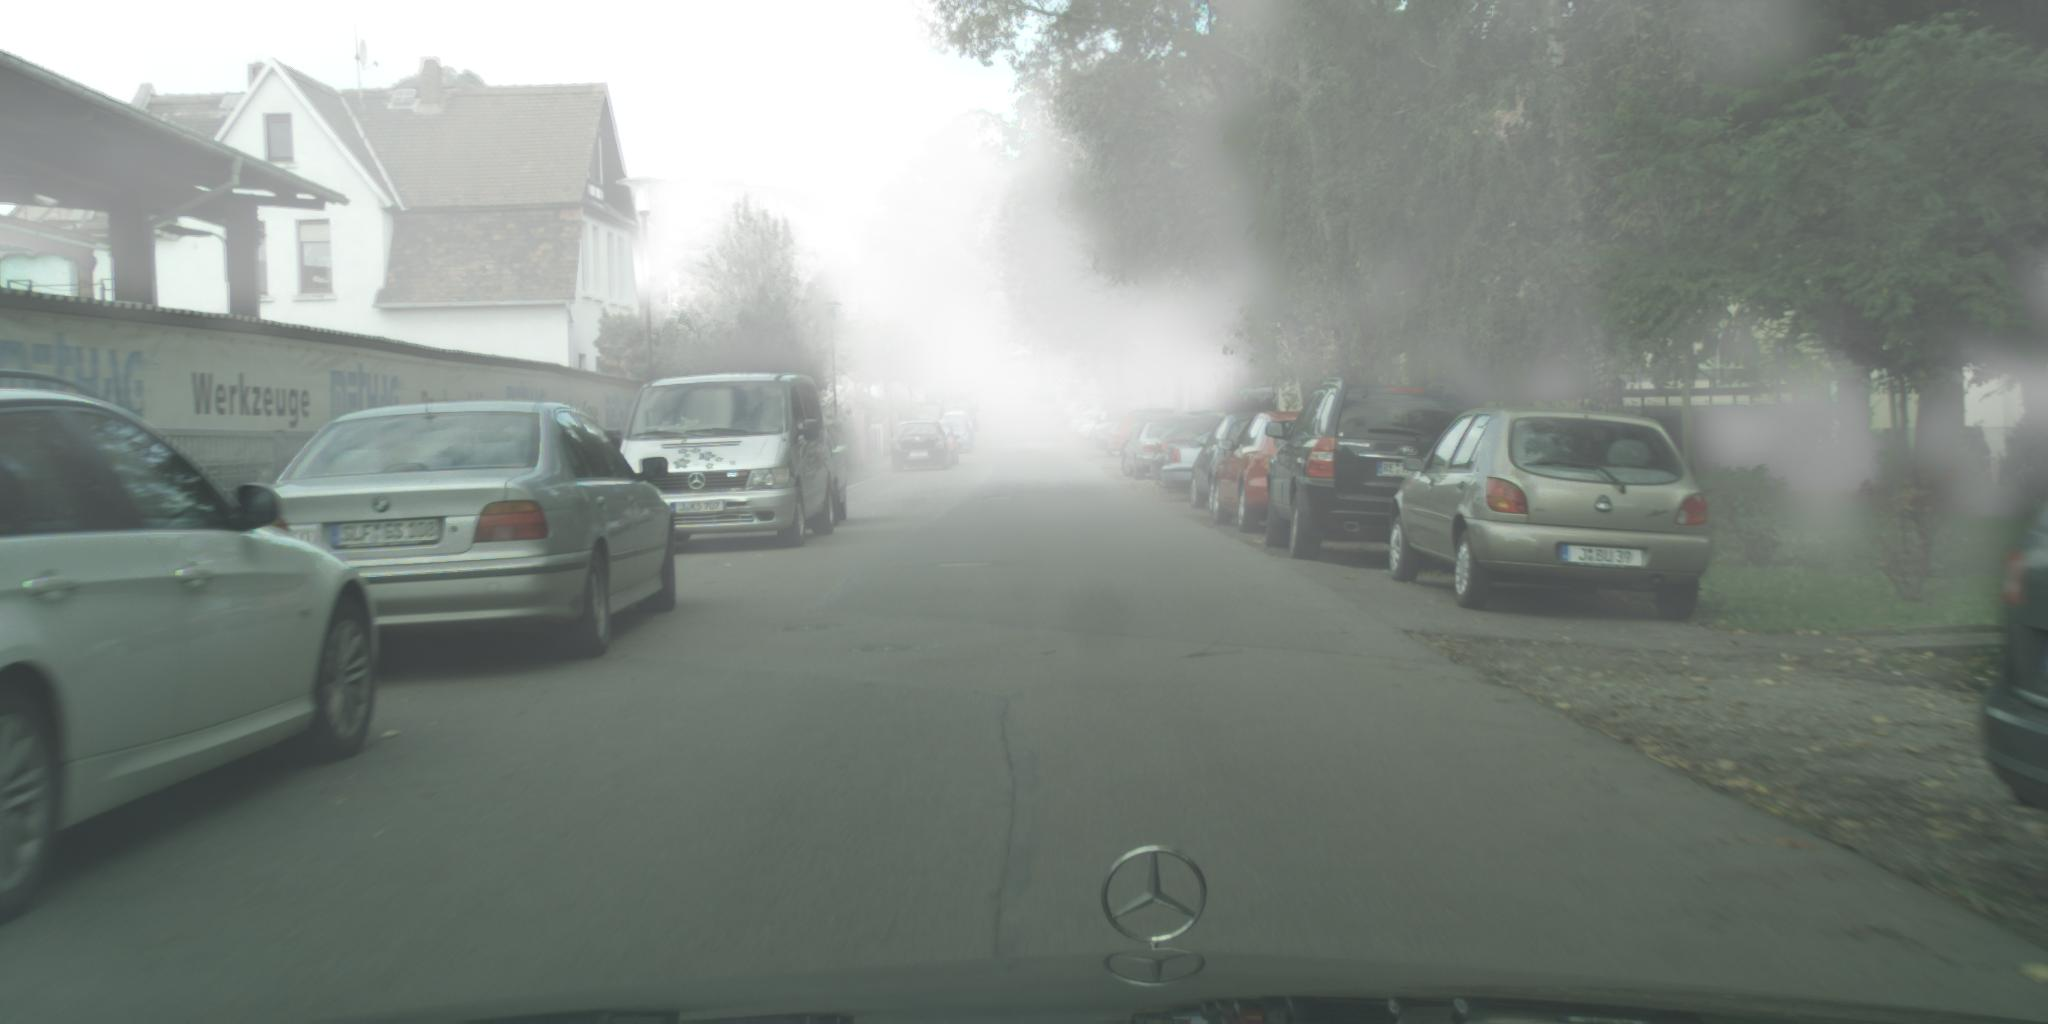car: (1, 371, 381, 923), (263, 401, 678, 664), (1388, 408, 1714, 622), (597, 374, 841, 551), (1266, 377, 1486, 562), (1977, 502, 2048, 814), (1213, 413, 1362, 533), (1189, 411, 1287, 516), (1152, 419, 1251, 491), (1161, 432, 1232, 494), (1121, 421, 1179, 481), (891, 421, 953, 475), (820, 421, 852, 526), (1134, 414, 1202, 439), (939, 398, 981, 434), (1109, 418, 1145, 453), (940, 419, 976, 455), (1027, 383, 1081, 405), (934, 422, 961, 466), (1078, 411, 1121, 439), (1068, 411, 1113, 438), (1093, 421, 1125, 457), (942, 409, 974, 441), (1108, 389, 1149, 414), (920, 387, 967, 408), (1240, 380, 1279, 404), (948, 391, 982, 411), (1128, 408, 1176, 421), (1088, 394, 1108, 405)
